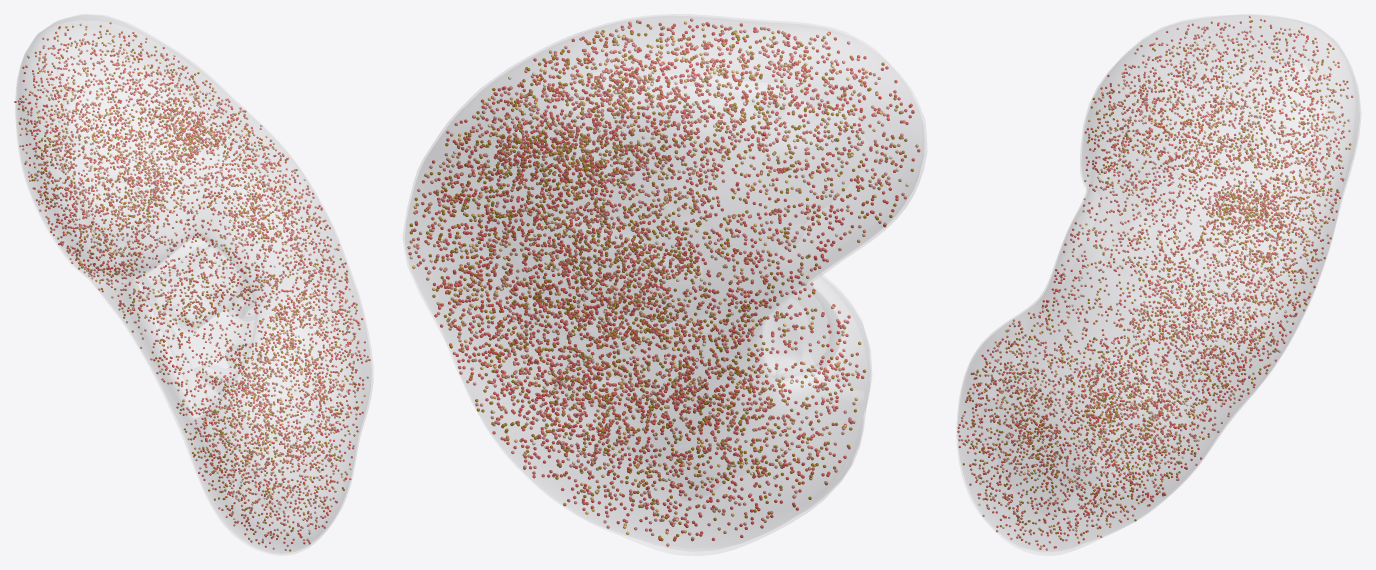
Rendered from 3d-vh-m-kidney-l-UBERON_0004538-all-as-pan-human-azimuth-sphere-hra-pop.glb.
3 views of the same model, side by side, from view 1: azimuth 30°, elevation 25°; view 2: azimuth 150°, elevation 25°; view 3: azimuth 270°, elevation 25° (orthographic). The views are drawn at different scales.
Visible parts, largest first — view 1: VH_M_kidney_capsule_L, VH_M_outer_cortex_of_kidney_L, VH_M_hilum_of_kidney_L, VH_M_renal_column_L, VH_M_renal_pyramid_L_f; view 2: VH_M_kidney_capsule_L, VH_M_outer_cortex_of_kidney_L, VH_M_hilum_of_kidney_L; view 3: VH_M_kidney_capsule_L, VH_M_outer_cortex_of_kidney_L.
Boxes of the visible parts, box(x1,y1,x2,y2) form: VH_M_kidney_capsule_L: box(15, 14, 372, 555); VH_M_outer_cortex_of_kidney_L: box(18, 21, 369, 553); VH_M_hilum_of_kidney_L: box(138, 237, 248, 415); VH_M_renal_column_L: box(164, 239, 253, 375); VH_M_renal_pyramid_L_f: box(142, 278, 253, 332); VH_M_kidney_capsule_L: box(403, 14, 926, 555); VH_M_outer_cortex_of_kidney_L: box(406, 18, 921, 547); VH_M_hilum_of_kidney_L: box(763, 288, 829, 379); VH_M_kidney_capsule_L: box(957, 14, 1360, 555); VH_M_outer_cortex_of_kidney_L: box(958, 17, 1354, 549).
Size of the model in its own units: 0.0757 by 0.1065 by 0.0824.
